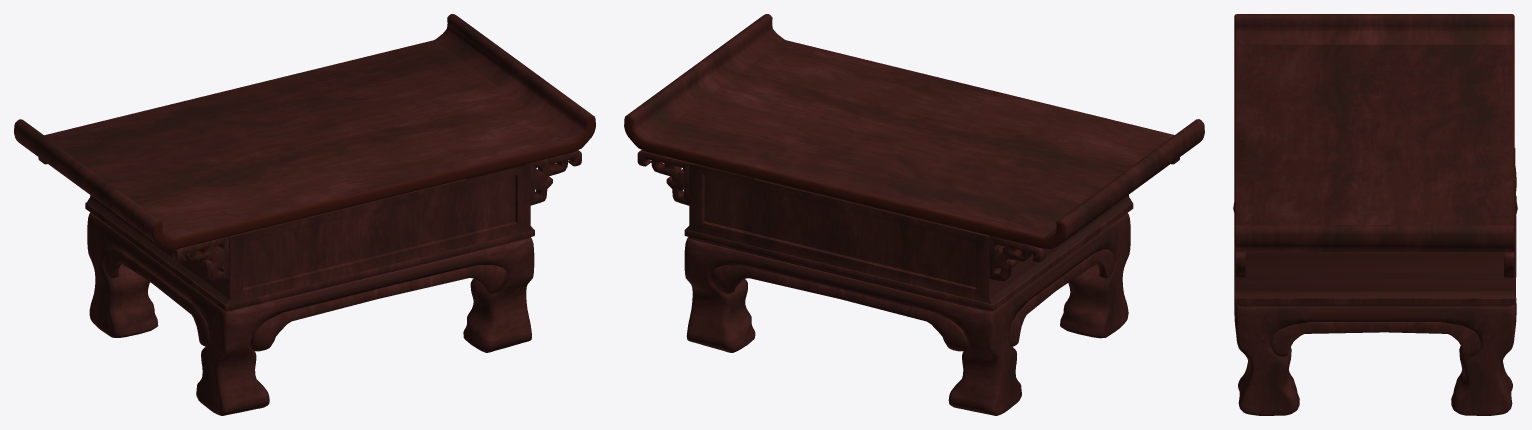
File: altar_table.glb
3 renders of one model, left to right at view 1: azimuth 30°, elevation 25°; view 2: azimuth 150°, elevation 25°; view 3: azimuth 270°, elevation 25°, orthographic.
Visible parts, largest first — view 1: SM_CCJ_CabinetD_M_CCJ_CabinetD_0; view 2: SM_CCJ_CabinetD_M_CCJ_CabinetD_0; view 3: SM_CCJ_CabinetD_M_CCJ_CabinetD_0.
Part boxes in pixels (x1,y1,x2,y2): SM_CCJ_CabinetD_M_CCJ_CabinetD_0: (14, 14, 595, 415); SM_CCJ_CabinetD_M_CCJ_CabinetD_0: (624, 14, 1204, 415); SM_CCJ_CabinetD_M_CCJ_CabinetD_0: (1233, 14, 1517, 415).
Size of the model in its own units: 2.01 by 0.95 by 1.12.
Materials: 1 (1 with a texture image).
